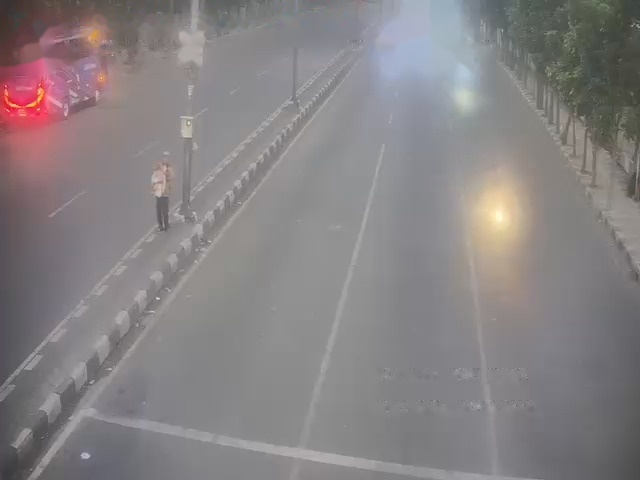Bis: (17, 23, 113, 125)
Motor: (483, 193, 513, 242)
